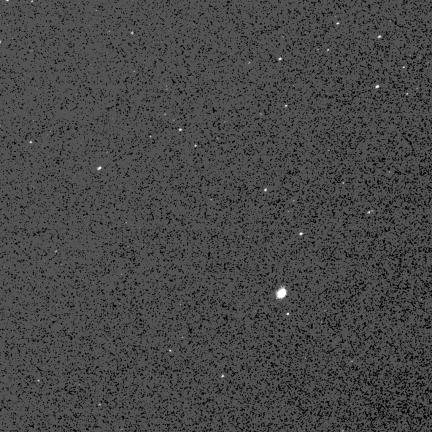blob: (277, 287, 286, 298), (265, 188, 268, 192), (300, 233, 304, 236), (279, 58, 283, 61), (376, 85, 379, 88), (98, 167, 101, 170), (287, 313, 290, 316), (285, 105, 288, 108), (337, 22, 340, 25), (378, 36, 382, 38)
